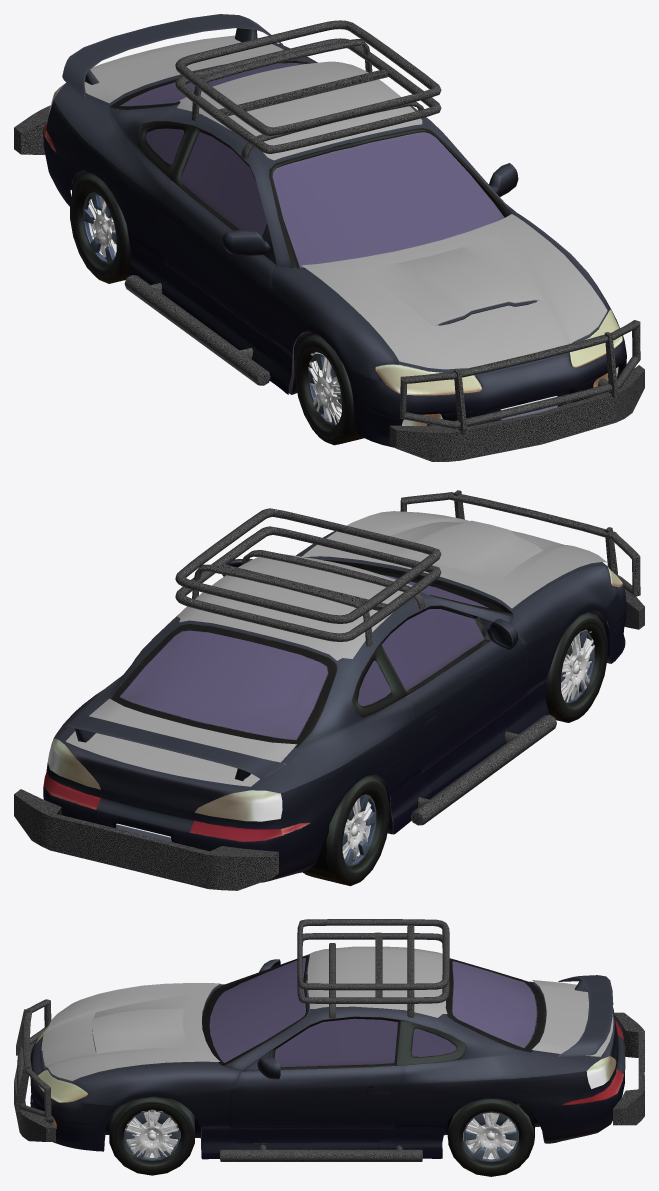
File: Nissan_Silvia_S15_1.fbx
The picture shows the model from 3 angles, top to bottom: view 1: azimuth 30°, elevation 25°; view 2: azimuth 150°, elevation 25°; view 3: azimuth 270°, elevation 25°; orthographic projection. The views are drawn at different scales.
Parts seen in each view (by area): view 1: Nissan_base, exportobj:Nissan_carbon, pasted__pasted__pasted__polySurface31, pasted__pasted__pasted__polySurface21, polySurface51, polySurface12, Nissan_silvia_s15_wheel.B_R, Nissan_silvia_s15_wheel.F_R, pasted__WheelFutureRF; view 2: Nissan_base, exportobj:Nissan_carbon, pasted__pasted__pasted__polySurface31, pasted__pasted__pasted__polySurface21, polySurface52, Nissan_silvia_s15_wheel.B_R, Nissan_silvia_s15_wheel.F_R, polySurface12, pasted__WheelFutureRF, polySurface51, pasted__WheelFutureRB; view 3: Nissan_base, exportobj:Nissan_carbon, pasted__pasted__pasted__polySurface31, pasted__pasted__pasted__polySurface21, Nissan_silvia_s15_wheel.B_L, Nissan_silvia_s15_wheel.F_L, polySurface52, polySurface12, polySurface51, pasted__WheelFutureLF, pasted__WheelFutureLB, pasted__WheelMagicLB (+1 smaller).
Boxes of the visible parts, x1,y1,x2,y2 form: Nissan_base: (46,43,625,424); exportobj:Nissan_carbon: (84,35,607,369); pasted__pasted__pasted__polySurface31: (124,20,441,385); pasted__pasted__pasted__polySurface21: (14,105,644,461); polySurface51: (351,350,626,447); polySurface12: (62,14,285,97); Nissan_silvia_s15_wheel.B_R: (70,172,131,283); Nissan_silvia_s15_wheel.F_R: (295,334,363,445); pasted__WheelFutureRF: (296,345,364,444); Nissan_base: (46,531,625,874); exportobj:Nissan_carbon: (66,511,606,786); pasted__pasted__pasted__polySurface31: (175,508,556,825); pasted__pasted__pasted__polySurface21: (14,490,644,890); polySurface52: (43,772,310,882); Nissan_silvia_s15_wheel.B_R: (304,775,389,886); Nissan_silvia_s15_wheel.F_R: (545,612,607,722); polySurface12: (63,714,285,781); pasted__WheelFutureRF: (556,622,606,722); polySurface51: (606,599,626,663); pasted__WheelFutureRB: (342,801,367,859); Nissan_base: (30,954,618,1159); exportobj:Nissan_carbon: (41,946,613,1080); pasted__pasted__pasted__polySurface31: (220,919,449,1161); pasted__pasted__pasted__polySurface21: (14,999,644,1142); Nissan_silvia_s15_wheel.B_L: (448,1098,533,1176); Nissan_silvia_s15_wheel.F_L: (109,1096,194,1175); polySurface52: (561,1020,625,1139); polySurface12: (558,975,613,1056); polySurface51: (30,1054,107,1151); pasted__WheelFutureLF: (126,1109,177,1174); pasted__WheelFutureLB: (470,1116,512,1158); pasted__WheelMagicLB: (463,1101,534,1159).
Size of the model in its own units: 198 by 145 by 471.
